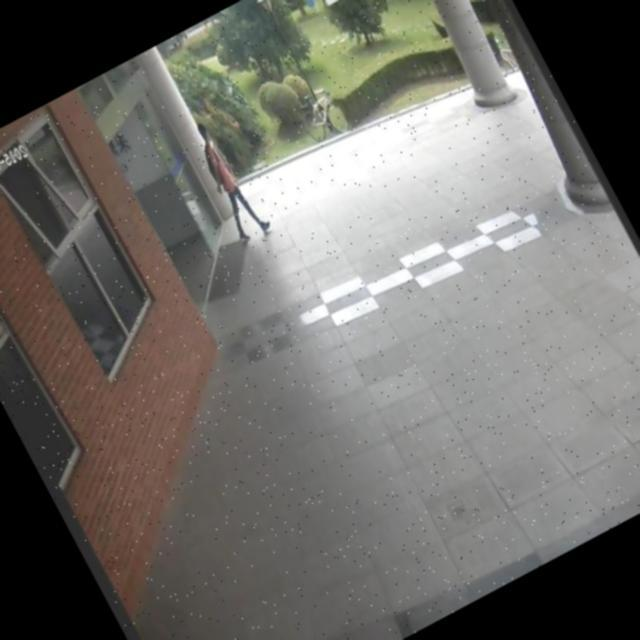person: (177, 112, 280, 260)
